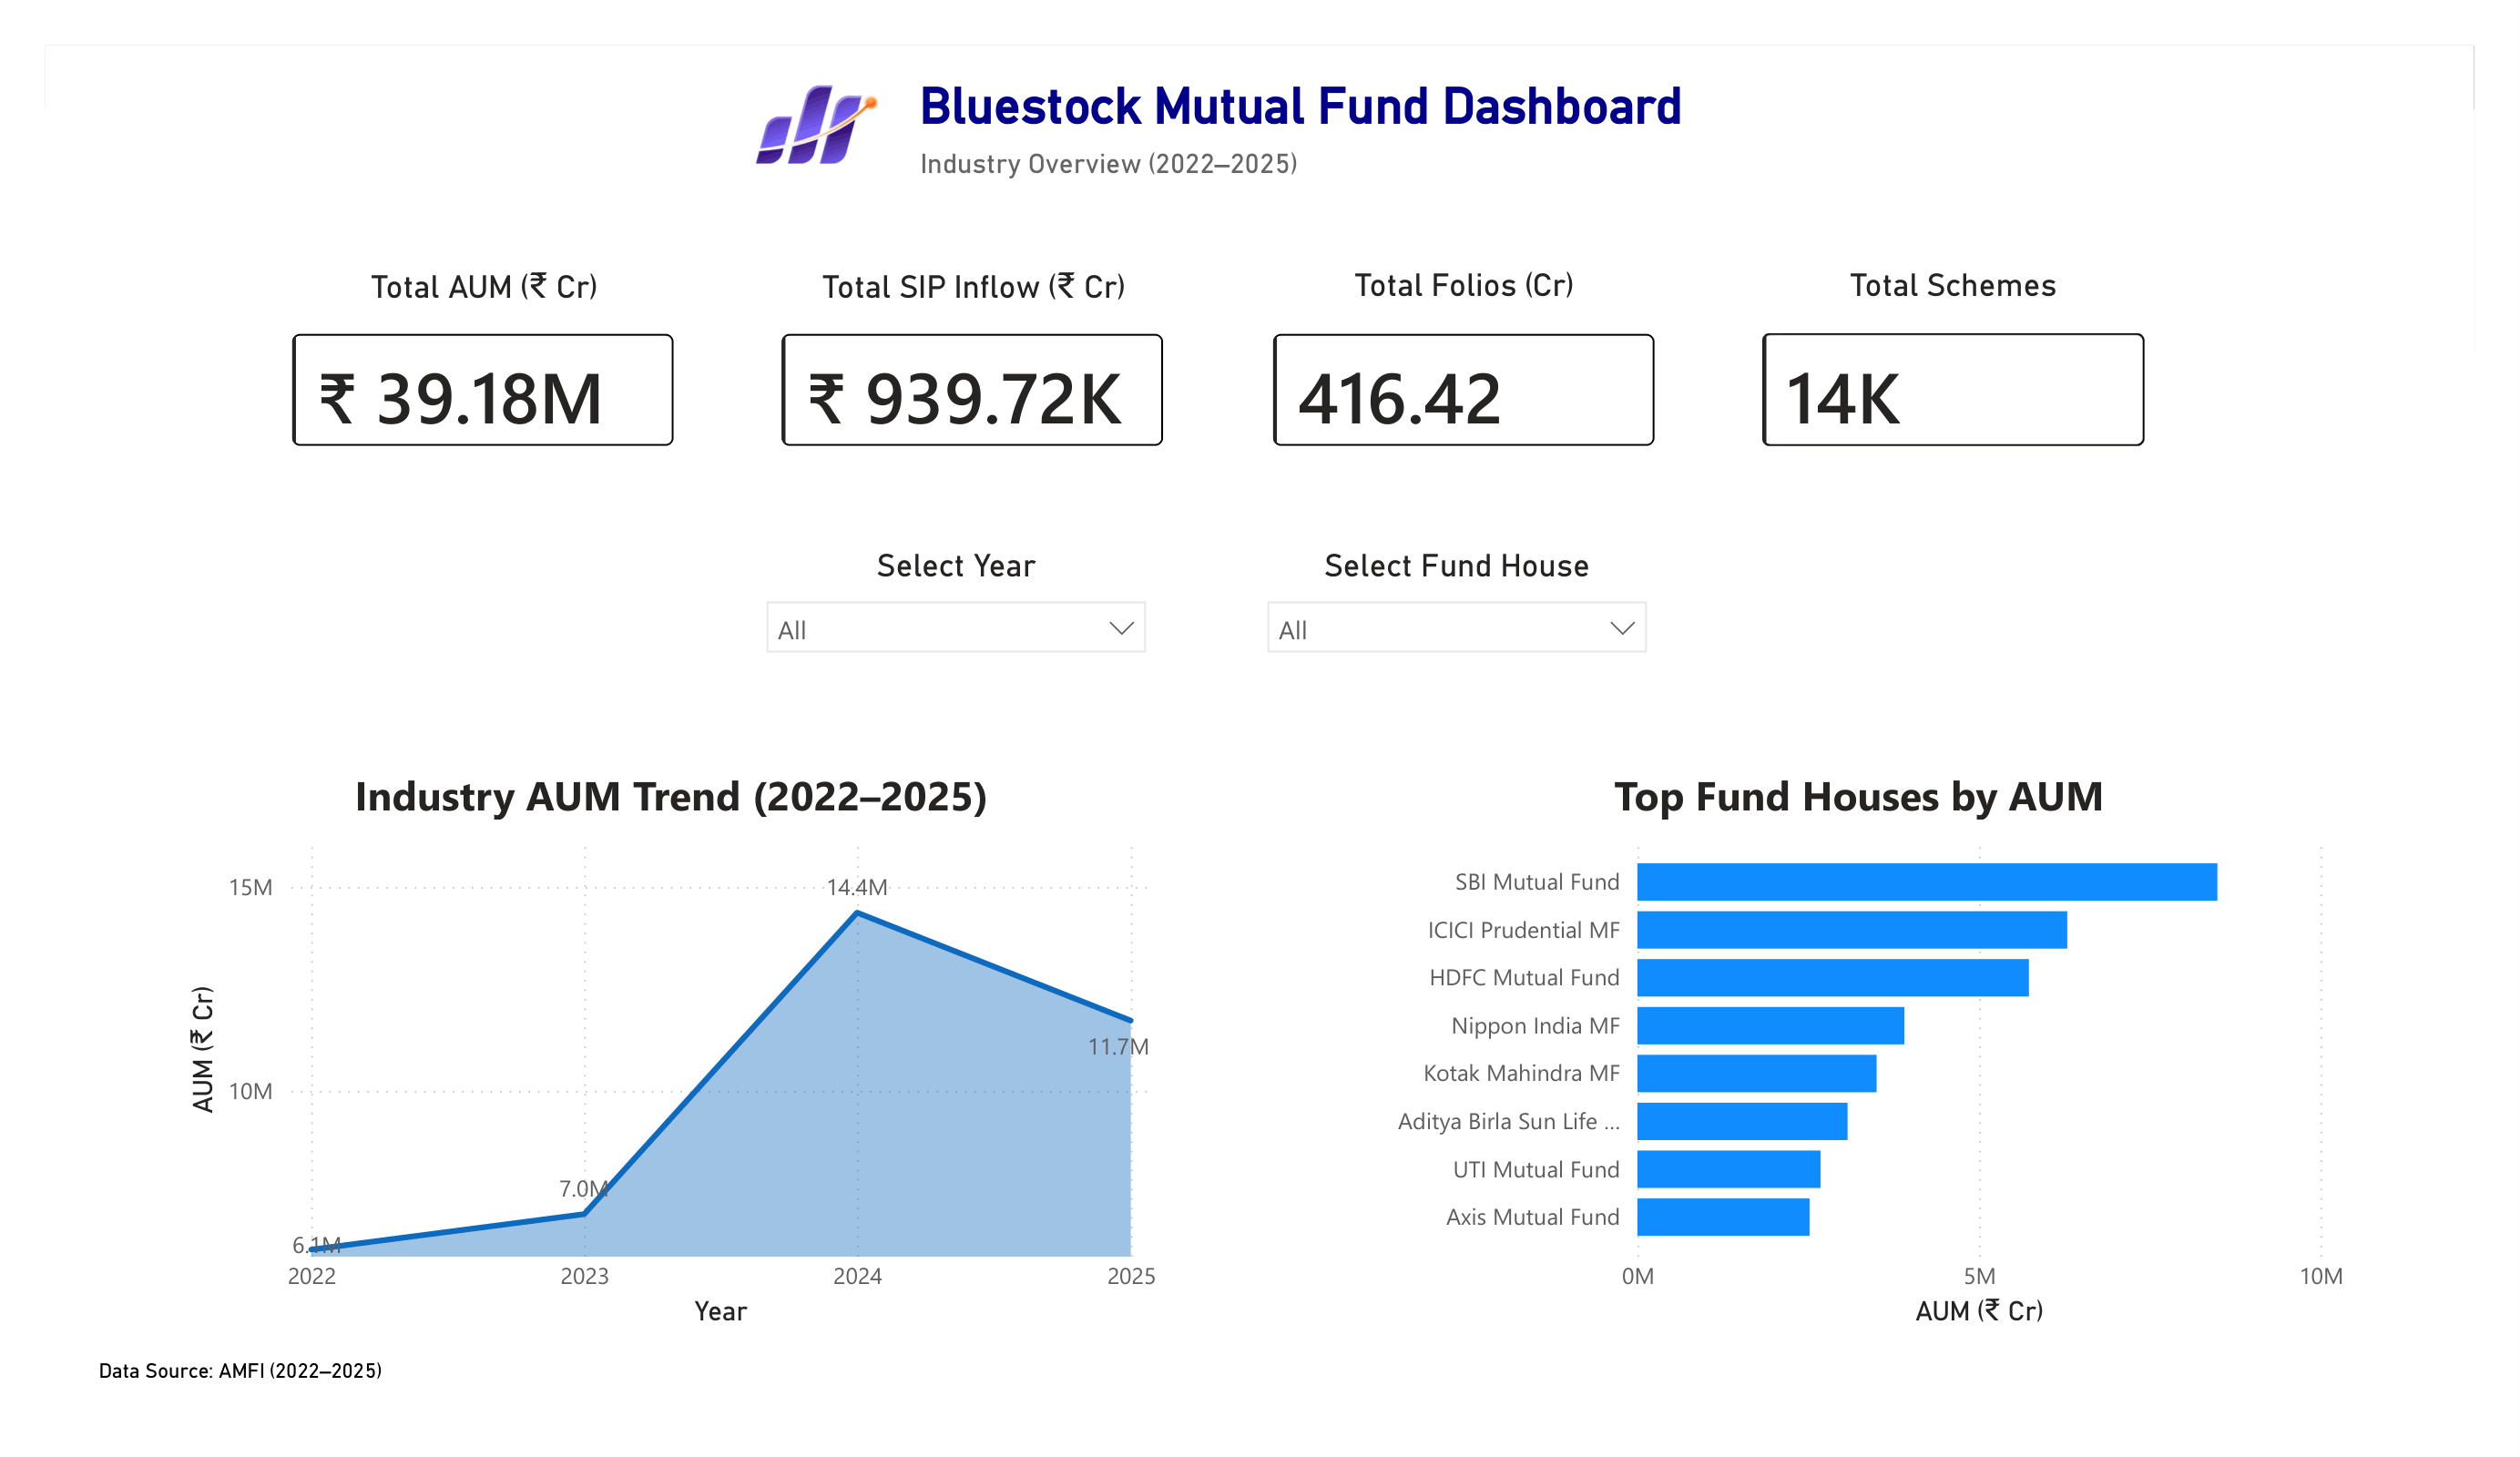

This screenshot's page, from the dashboard's own definition file:
{"tool":"powerbi","page":{"name":"Industry Overview","canvas":[1280,720],"ordinal":0},"visuals":[{"type":"textbox","title":"Bluestock Mutual Fund Dashboard","box":[455.6,15.6,420,40],"z":0},{"type":"cardVisual","title":"Total AUM (₹ Cr)","fields":{"Data":["Sum(03_aum_by_fund_house.aum_crore)"]},"box":[113.3,115.6,235.6,112.2],"z":1000},{"type":"cardVisual","title":"Total SIP Inflow (₹ Cr)","fields":{"Data":["Sum(04_monthly_sip_inflows.sip_inflow_crore)"]},"box":[371.5,115.6,235.6,112.2],"z":2000},{"type":"cardVisual","title":"Total Folios (Cr)","fields":{"Data":["Sum(06_industry_folio_count.total_folios_crore)"]},"box":[629.6,115.6,235.6,112.2],"z":3000},{"type":"cardVisual","title":"Total Schemes","fields":{"Data":["Sum(03_aum_by_fund_house.num_schemes)"]},"box":[887.8,115.6,235.6,112.2],"z":4000},{"type":"lineChart","title":"Industry AUM Trend (2022–2025)","fields":{"Category":["03_aum_by_fund_house.date.Variation.Date Hierarchy.Year"],"Y":["Sum(03_aum_by_fund_house.aum_crore)"]},"box":[70,380,520,300],"z":5000},{"type":"clusteredBarChart","title":"Top Fund Houses by AUM","fields":{"Category":["03_aum_by_fund_house.fund_house"],"Y":["Sum(03_aum_by_fund_house.aum_crore)"]},"box":[695.6,380,520,300],"z":6000},{"type":"textbox","title":"Industry Overview (2022–2025)","box":[455.6,54.4,250,20],"z":7000},{"type":"slicer","title":"Select Year","fields":{"Values":["03_aum_by_fund_house.date.Variation.Date Hierarchy.Year"]},"box":[370,264.4,220,81.1],"z":8000},{"type":"slicer","title":"Select Fund House","fields":{"Values":["03_aum_by_fund_house.fund_house"]},"box":[634.4,264.4,220,81.1],"z":9000},{"type":"image","box":[348.9,0,114.4,84.4],"z":10000},{"type":"textbox","title":"Data Source: AMFI (2022–2025)","box":[23.3,692.2,250,20],"z":11000}]}

Visuals, with their boxes on the page's 1280x720 design canvas (x1, y1, x2, y2). These are canvas units, not pixel positions in the 2520x1457 screenshot, which may show the page scaled, cropped or inside an application window:
"Bluestock Mutual Fund Dashboard" textbox: left=456, top=16, right=876, bottom=56
"Total AUM (₹ Cr)" cardVisual: left=113, top=116, right=349, bottom=228
"Total SIP Inflow (₹ Cr)" cardVisual: left=372, top=116, right=607, bottom=228
"Total Folios (Cr)" cardVisual: left=630, top=116, right=865, bottom=228
"Total Schemes" cardVisual: left=888, top=116, right=1123, bottom=228
"Industry AUM Trend (2022–2025)" lineChart: left=70, top=380, right=590, bottom=680
"Top Fund Houses by AUM" clusteredBarChart: left=696, top=380, right=1216, bottom=680
"Industry Overview (2022–2025)" textbox: left=456, top=54, right=706, bottom=74
"Select Year" slicer: left=370, top=264, right=590, bottom=346
"Select Fund House" slicer: left=634, top=264, right=854, bottom=346
image: left=349, top=0, right=463, bottom=84
"Data Source: AMFI (2022–2025)" textbox: left=23, top=692, right=273, bottom=712
